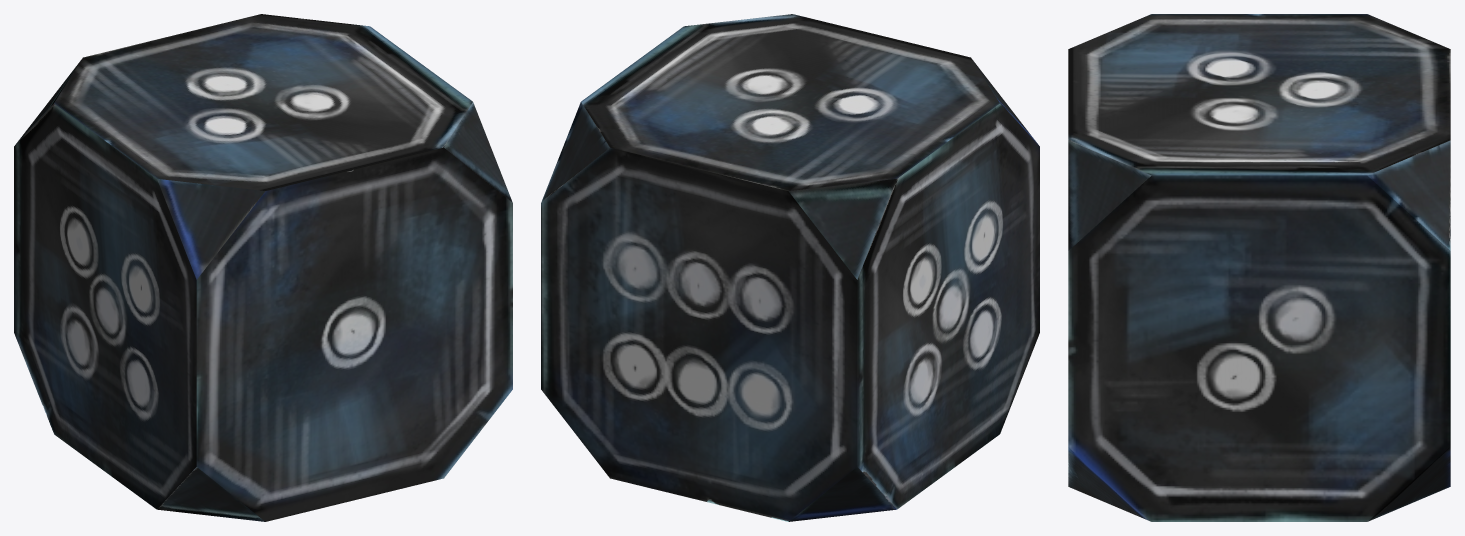
The model's file is dice blender.fbx.
The picture shows the model from 3 angles, left to right: view 1: azimuth 30°, elevation 25°; view 2: azimuth 150°, elevation 25°; view 3: azimuth 270°, elevation 25°; orthographic projection. The views are drawn at different scales.
Visible parts, largest first — view 1: Cube; view 2: Cube; view 3: Cube.
Boxes of the visible parts, x1,y1,x2,y2 form: Cube: [14, 14, 512, 521]; Cube: [541, 14, 1039, 521]; Cube: [1068, 14, 1450, 521].
Bounding box in the file's own units: 200 × 200 × 200.
